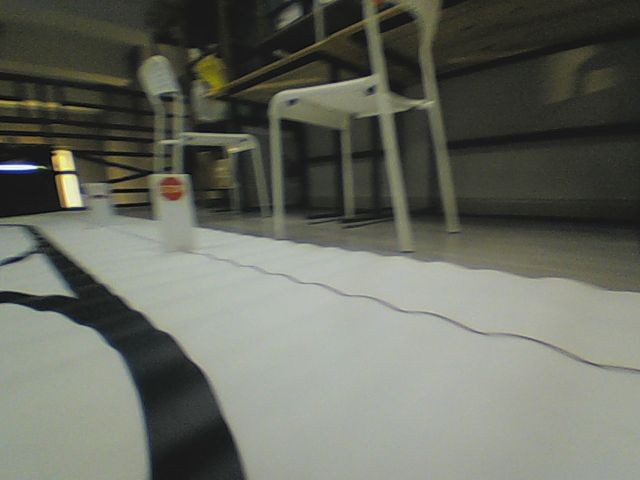Stop: (157, 176, 185, 201)
